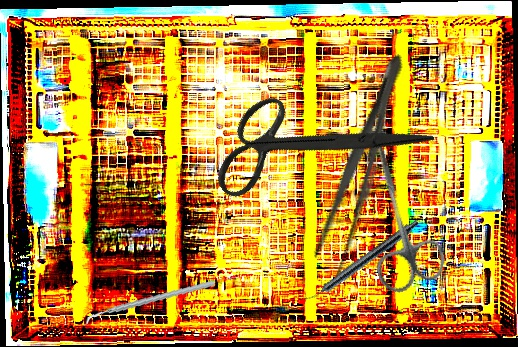Chopper: (82, 262, 216, 344)
Dressing Forceps: (305, 47, 416, 286)
Handpiece: (302, 215, 421, 308)
Iris Scissors: (192, 28, 436, 262), (340, 125, 451, 297)
